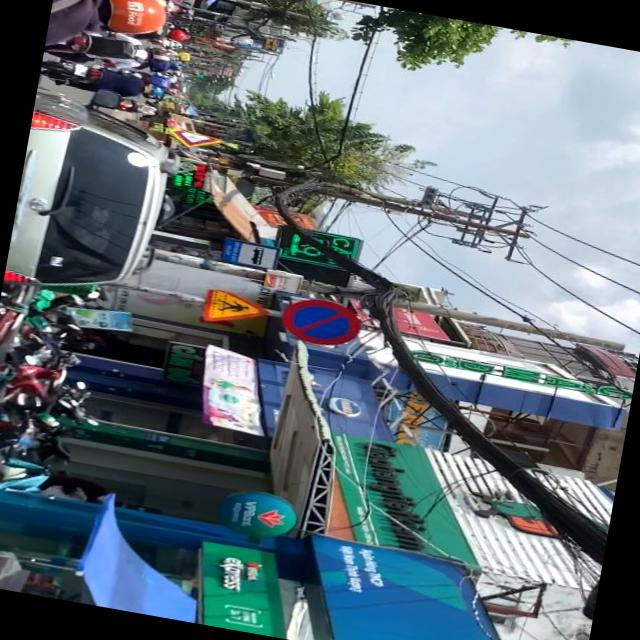P-131a: (278, 292, 362, 350)
W-224: (200, 286, 273, 330)
